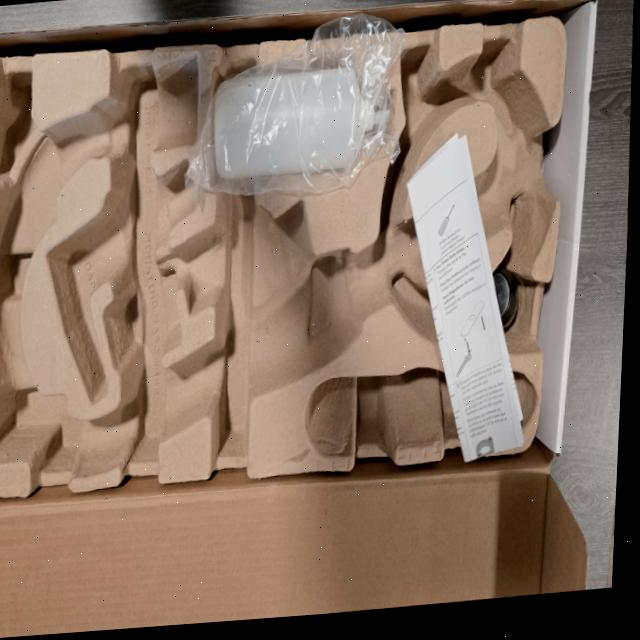1m: (0, 58, 558, 479)
2m: (47, 162, 194, 403)
3: (212, 65, 390, 178)
4m: (304, 366, 537, 453)
5o: (473, 270, 516, 336)
6m: (462, 40, 536, 138)
7m: (389, 43, 459, 176)
8: (405, 130, 523, 466)
